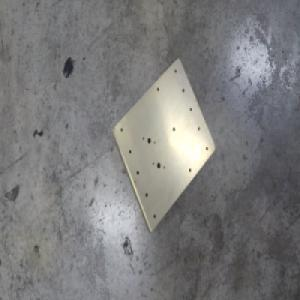MetalSheet: (110, 56, 216, 236)
